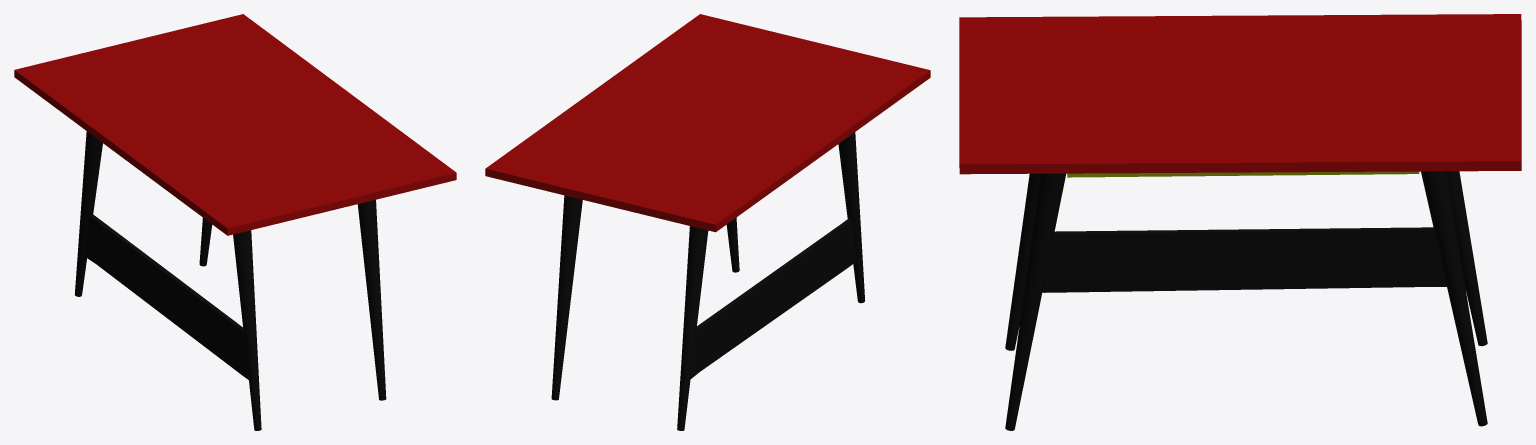
File: desk.FBX
The picture shows the model from 3 angles, left to right: view 1: azimuth 30°, elevation 25°; view 2: azimuth 150°, elevation 25°; view 3: azimuth 270°, elevation 25°; orthographic projection. The views are drawn at different scales.
Visible parts, largest first — view 1: Cone005; view 2: Cone005; view 3: Cone005.
Part boxes in pixels (left/top/right/bottom): Cone005: left=14, top=14, right=456, bottom=430; Cone005: left=485, top=14, right=930, bottom=430; Cone005: left=959, top=14, right=1521, bottom=430.
Size of the model in its own units: 30.27 by 29.12 by 48.86.
